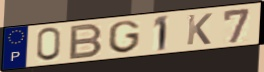0: (35, 26, 63, 63)
1: (152, 15, 171, 52)
7: (221, 7, 252, 44)
B: (67, 22, 105, 61)
G: (107, 19, 141, 54)
K: (185, 12, 214, 47)
